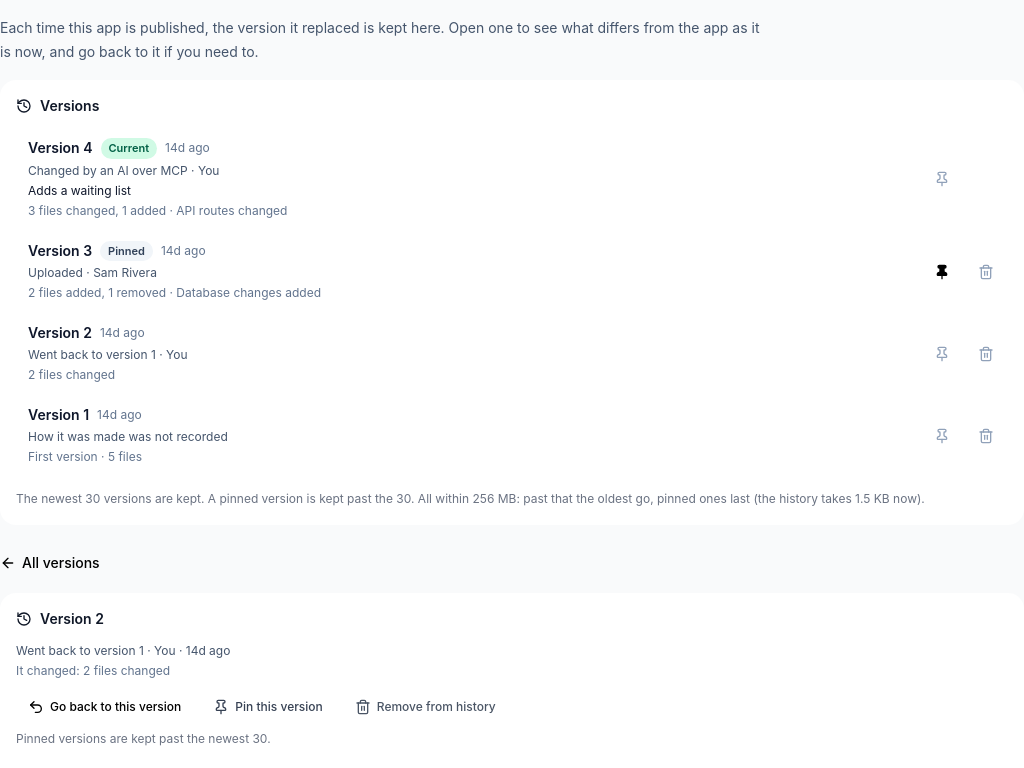
Test: going back › says what stays for an app with no database, and nothing about visitors for one that is not live
The width and height of the screenshot is (1024, 768).
Click the button "Go back to this version" at (105, 707), box [16,693,193,721]
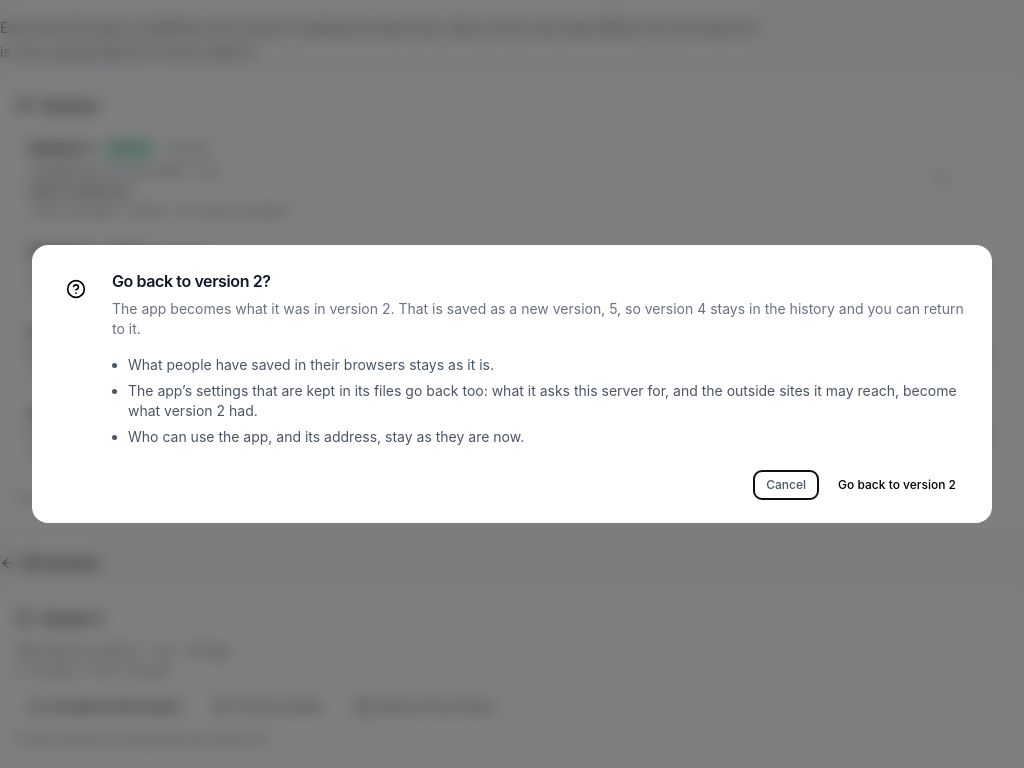
Expected: the text "database" is not shown
Expected: the dialog shows "What people have saved in their browsers stays as it is.", [128,356,494,373]
